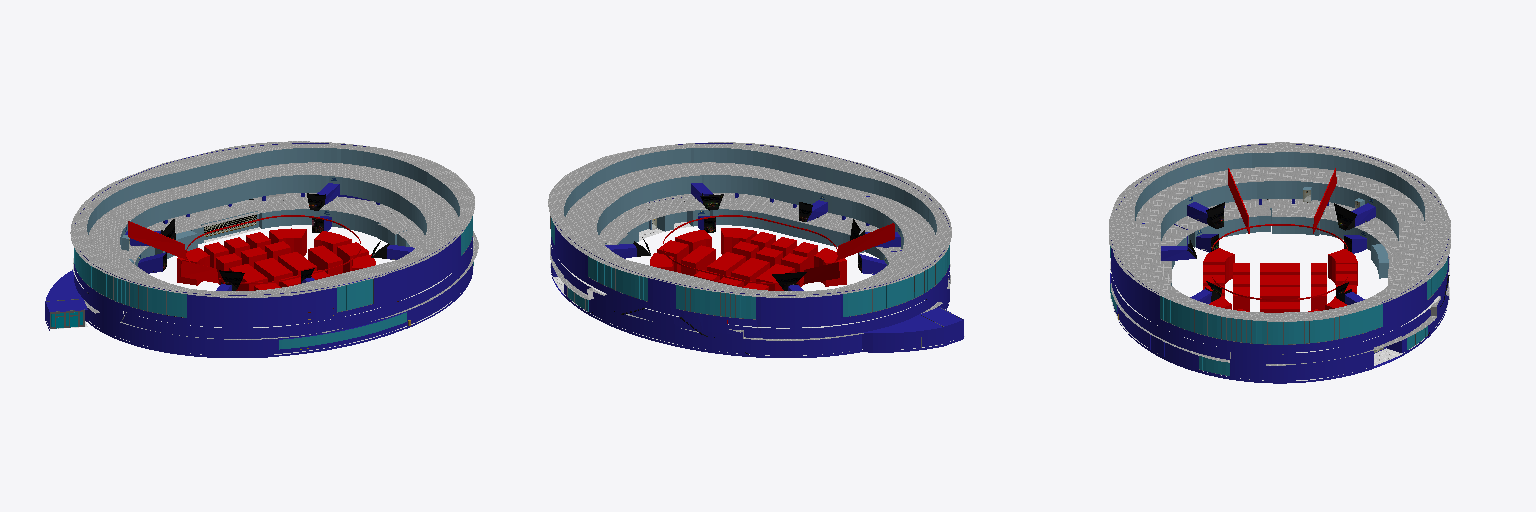
3 renders of one model, left to right at view 1: azimuth 30°, elevation 25°; view 2: azimuth 150°, elevation 25°; view 3: azimuth 270°, elevation 25°, orthographic.
Visible parts, largest first — view 1: ulkokeha_Cylinder.004, Cube.917_Cube.933, Cube.913_Cube.929, Cube.057_Cube.912, ulkokeha.011_Cylinder.040, Cube_Cube.041, Cube.916_Cube.932, Cube.915_Cube.931; view 2: ulkokeha_Cylinder.004, Cube.916_Cube.932, Cube.057_Cube.912, Cube.912_Cube.928, Cube.911_Cube.927, Cube_Cube.041, Cube.905_Cube.921, Cube.917_Cube.933; view 3: ulkokeha_Cylinder.004, Cube.912_Cube.928, Cube.905_Cube.921.
Boxes of the visible parts, box(x1,y1,x2,y2) form: ulkokeha_Cylinder.004: box(45, 141, 478, 357); Cube.917_Cube.933: box(128, 221, 186, 259); Cube.913_Cube.929: box(269, 228, 306, 256); Cube.057_Cube.912: box(308, 245, 342, 275); ulkokeha.011_Cylinder.040: box(50, 309, 84, 328); Cube_Cube.041: box(254, 258, 292, 285); Cube.916_Cube.932: box(180, 260, 218, 283); Cube.915_Cube.931: box(177, 248, 209, 285); ulkokeha_Cylinder.004: box(548, 142, 964, 357); Cube.916_Cube.932: box(836, 223, 894, 260); Cube.057_Cube.912: box(681, 245, 715, 275); Cube.912_Cube.928: box(814, 248, 846, 286); Cube.911_Cube.927: box(721, 228, 756, 254); Cube_Cube.041: box(731, 258, 769, 285); Cube.905_Cube.921: box(707, 252, 745, 279); Cube.917_Cube.933: box(803, 262, 840, 283); ulkokeha_Cylinder.004: box(1109, 142, 1450, 383); Cube.912_Cube.928: box(1203, 248, 1234, 283); Cube.905_Cube.921: box(1260, 287, 1299, 301).
Size of the model in its own units: 1990 by 368 by 1460.
140 materials, 23 textured.